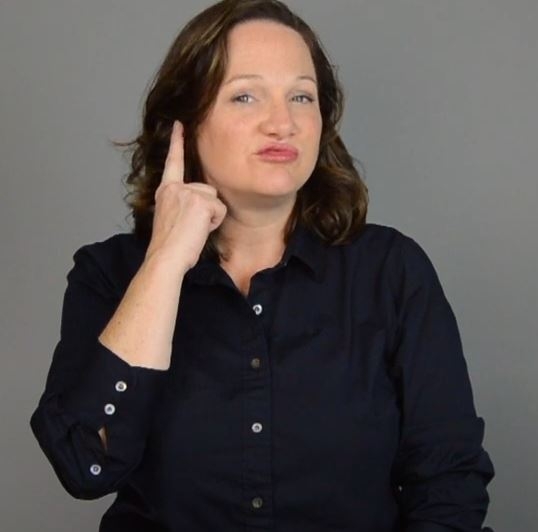ear: (138, 120, 231, 284)
